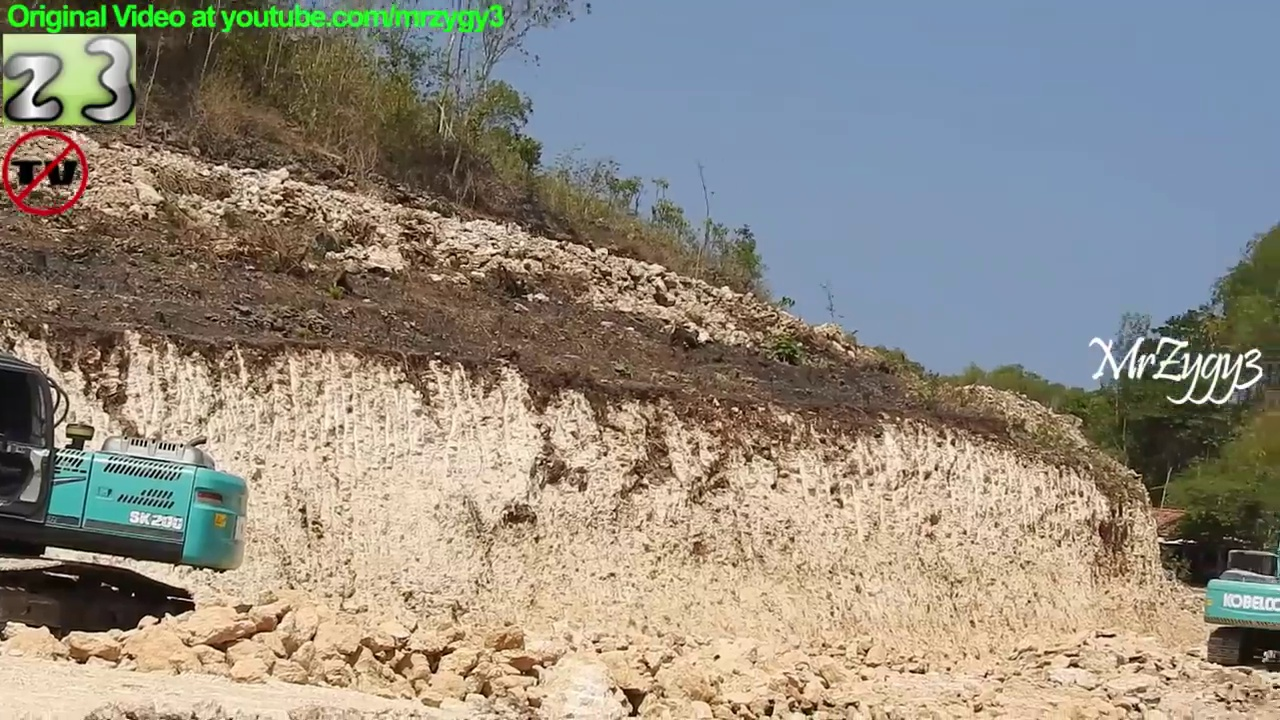excavator: (1, 346, 257, 658), (1199, 536, 1280, 679)
